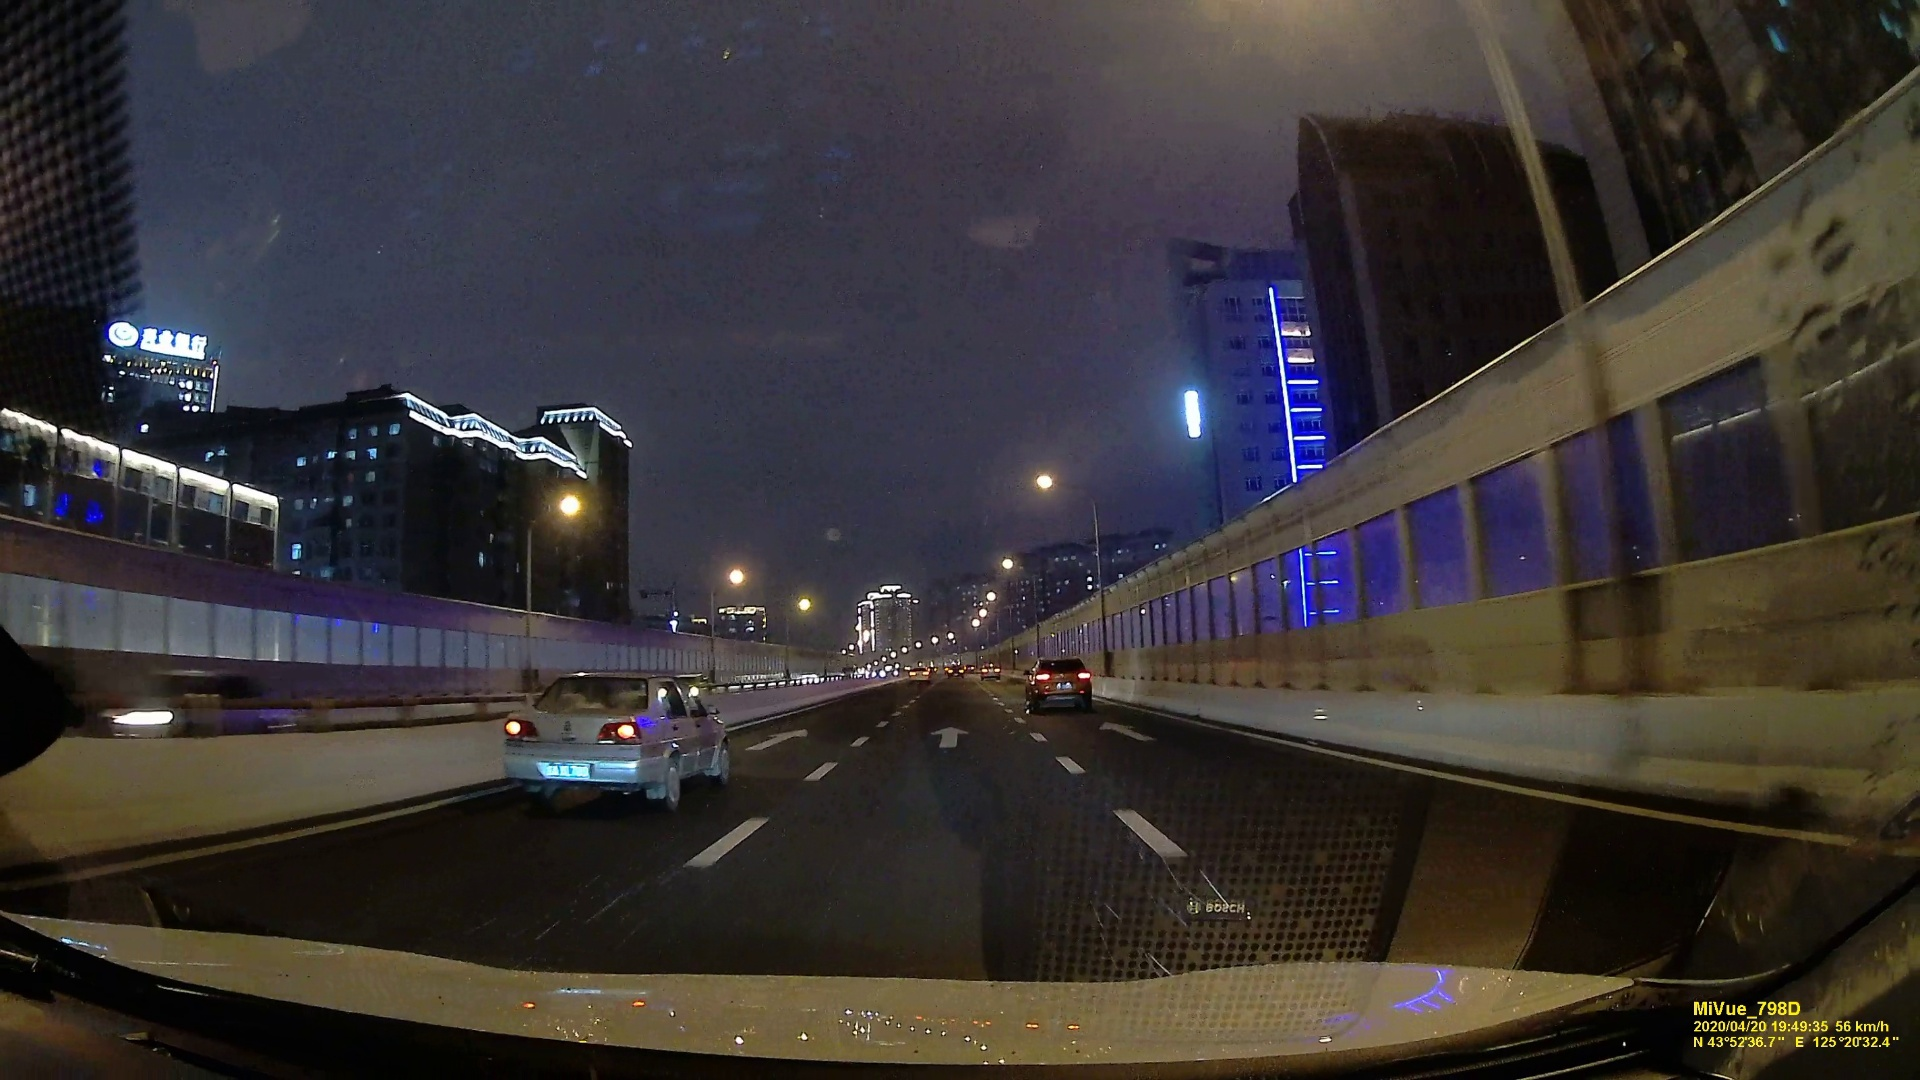vehicle: (498, 665, 723, 808), (94, 657, 280, 752), (1025, 657, 1095, 713), (907, 665, 932, 684), (980, 659, 1001, 680), (945, 663, 967, 679)
